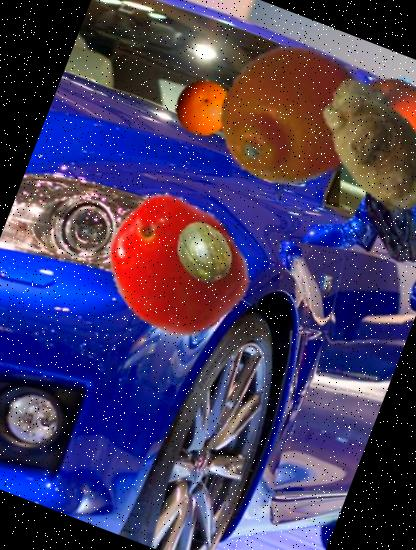Dates: (332, 161, 416, 281)
Ginger: (282, 50, 416, 240)
Kaki: (320, 55, 416, 205)
Melon: (162, 212, 244, 296)
Mulberry: (328, 89, 416, 187)
Orange: (166, 70, 240, 145)
Tangelo: (196, 20, 390, 214)
Tomato: (80, 172, 270, 362)
